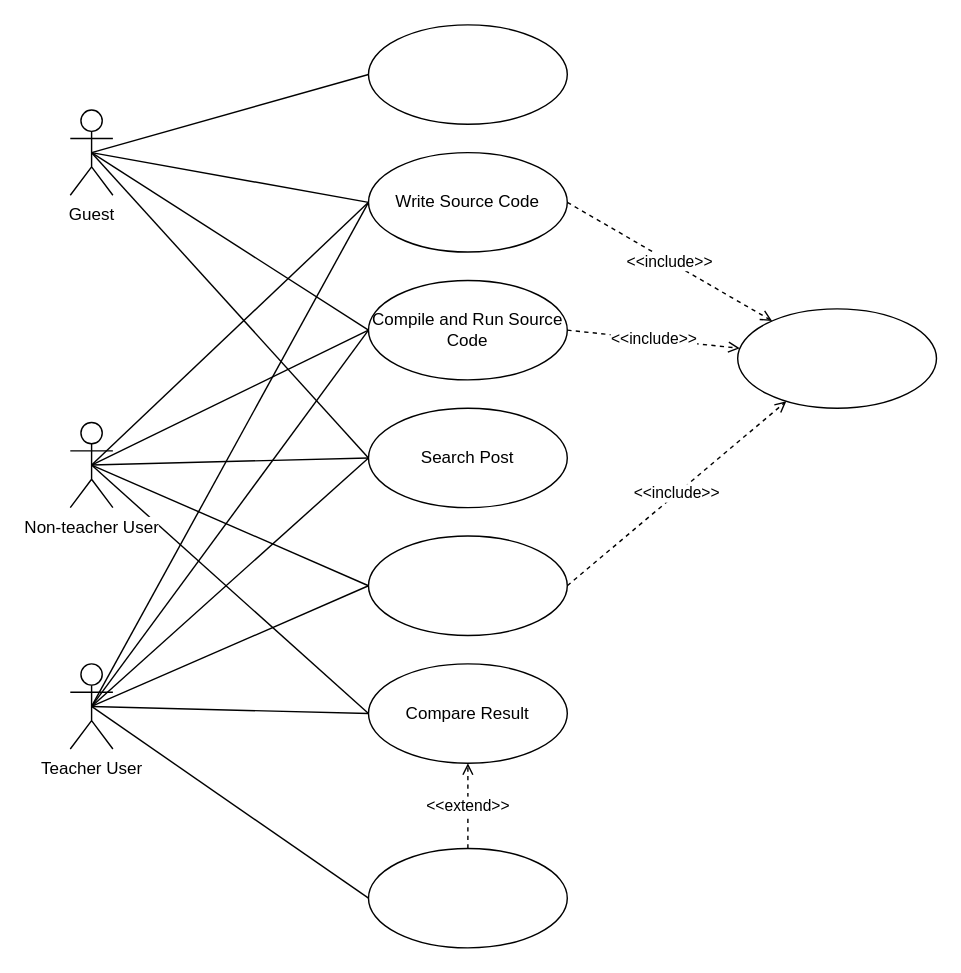
Some shapes in this 961 by 973 pixel diagram are drawn without their labels. Here are the shapes that lost their labels. From the top down, the box of each, then its label:
(367, 23, 567, 124): Register Account
(736, 307, 936, 408): Load Source Code
(367, 535, 567, 635): Post Code or Comment
(367, 847, 567, 948): Grade Code
